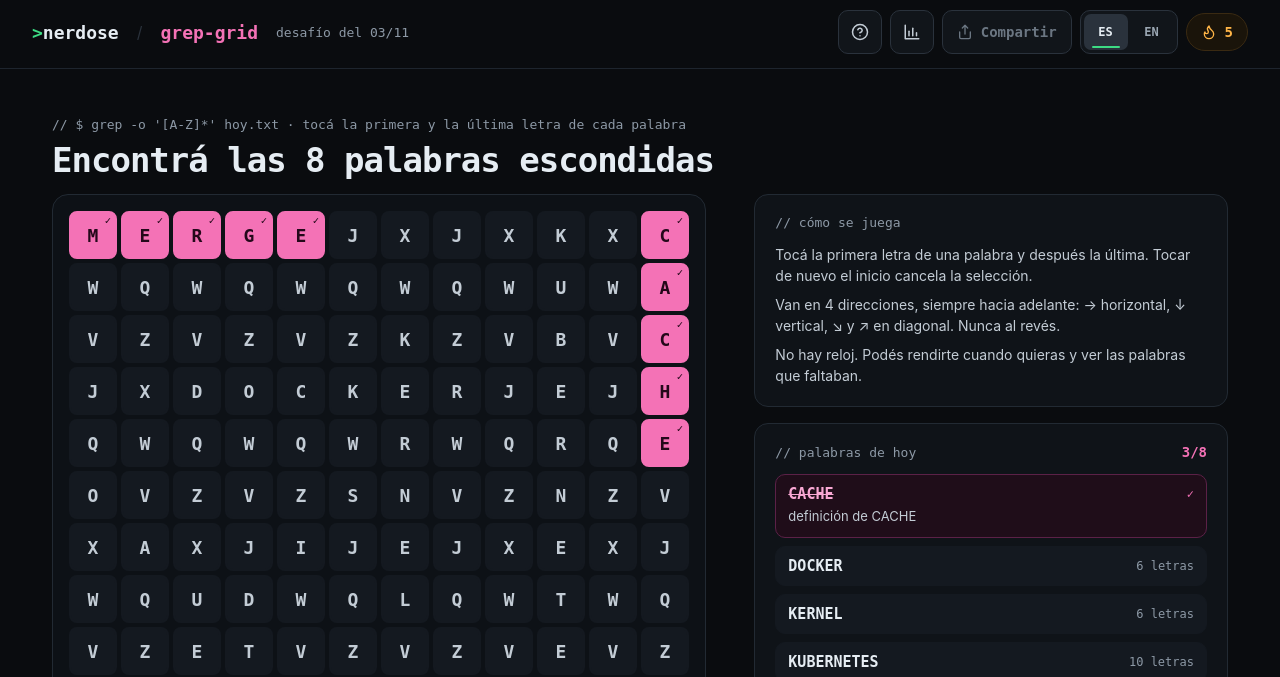
partida › TS-14: cancelar la celda inicial sin enviar
Click the 1st button "D" at point(197, 391), box [173,367,221,415]
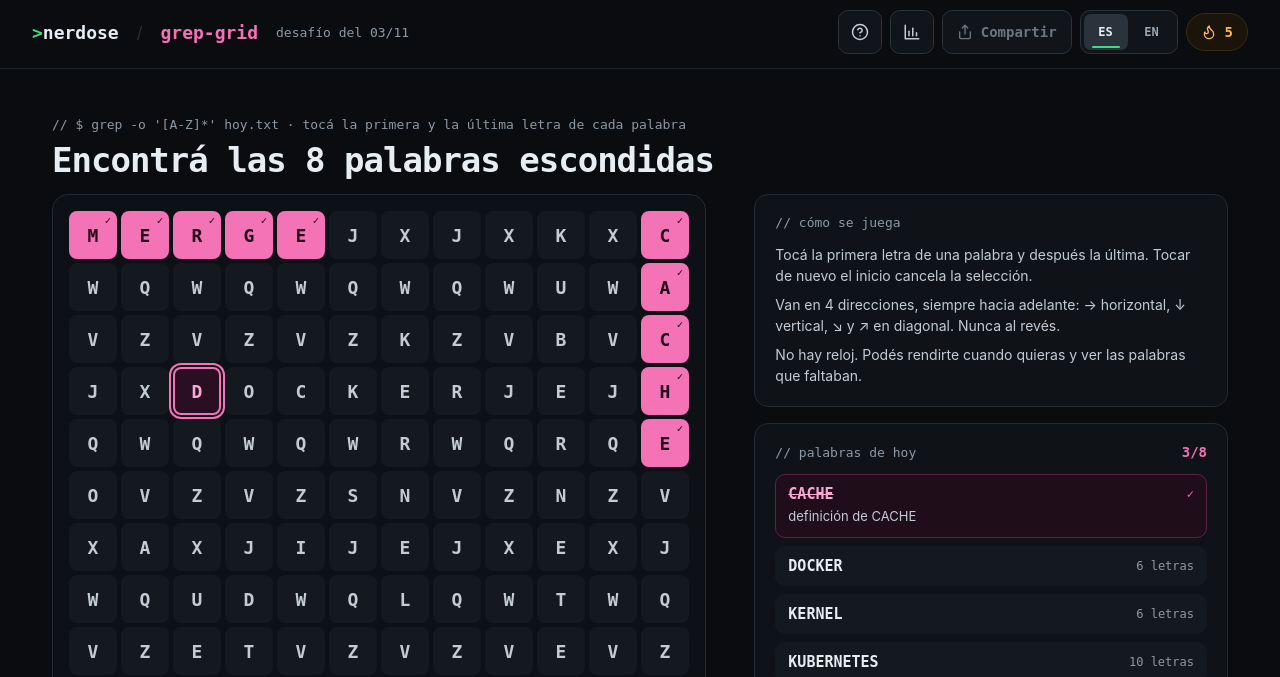
Click the 1st button "D" at point(197, 391), box [173,367,221,415]
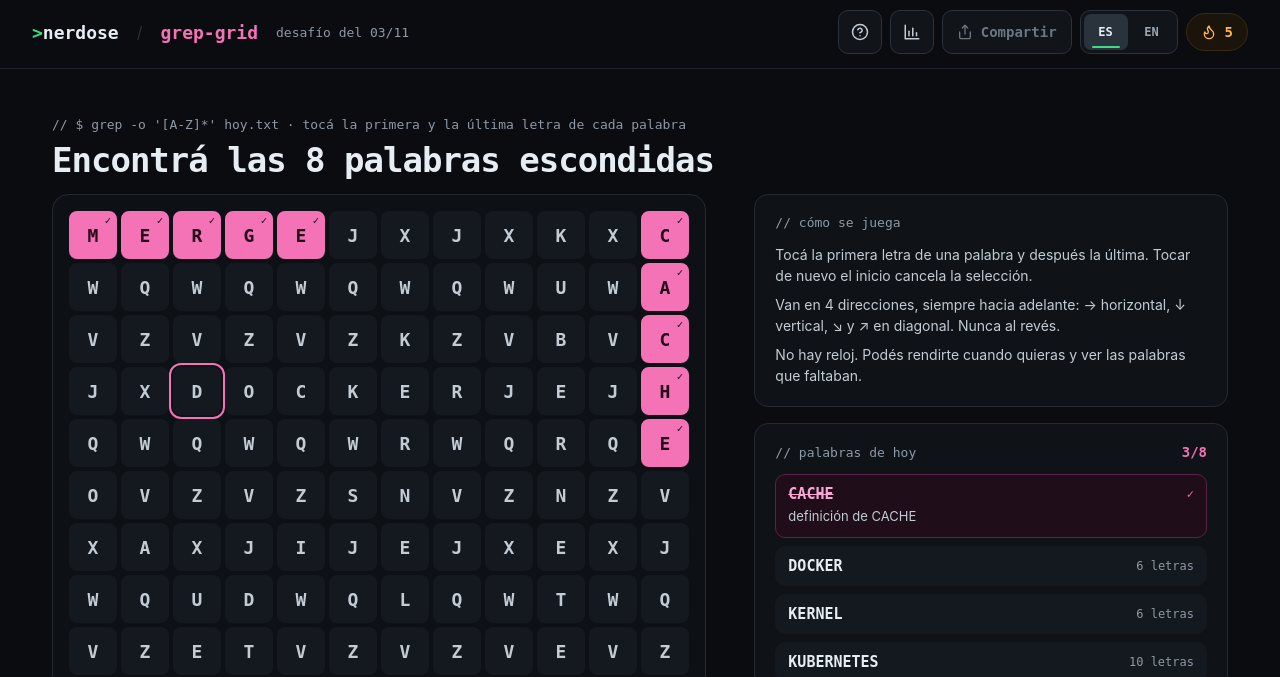
Click the 1st button "D" at point(197, 391), box [173,367,221,415]
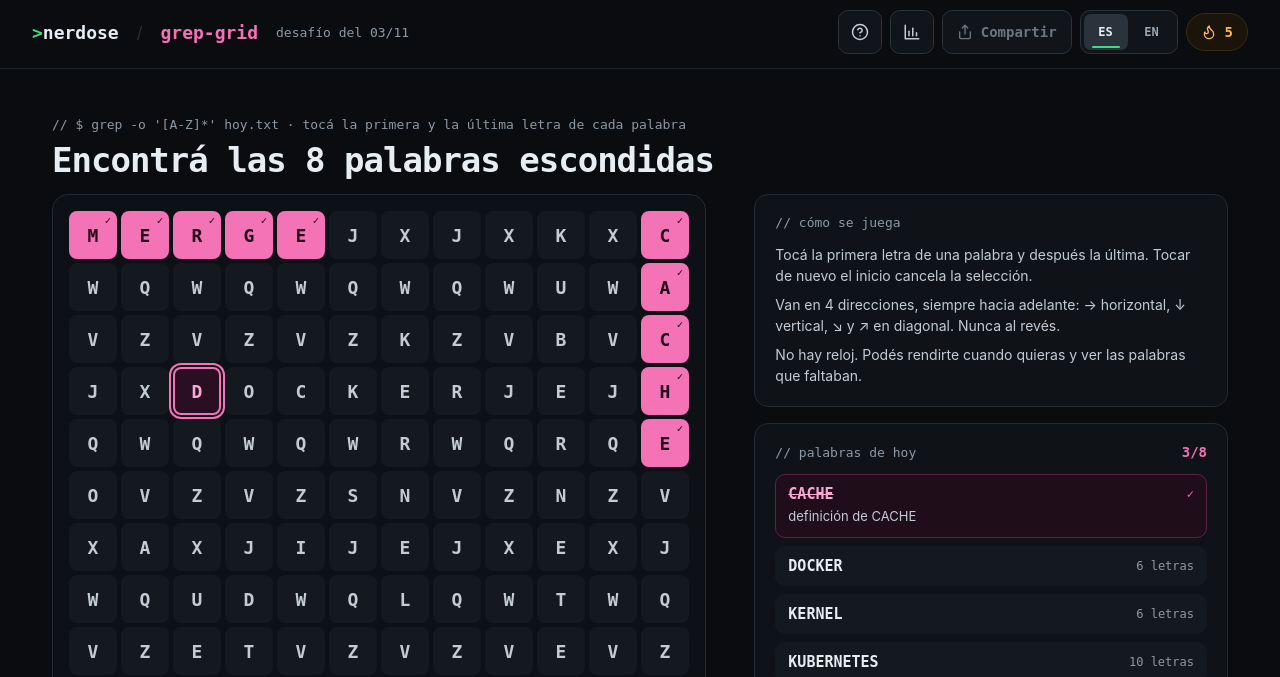
Press Escape
(page scrolled)
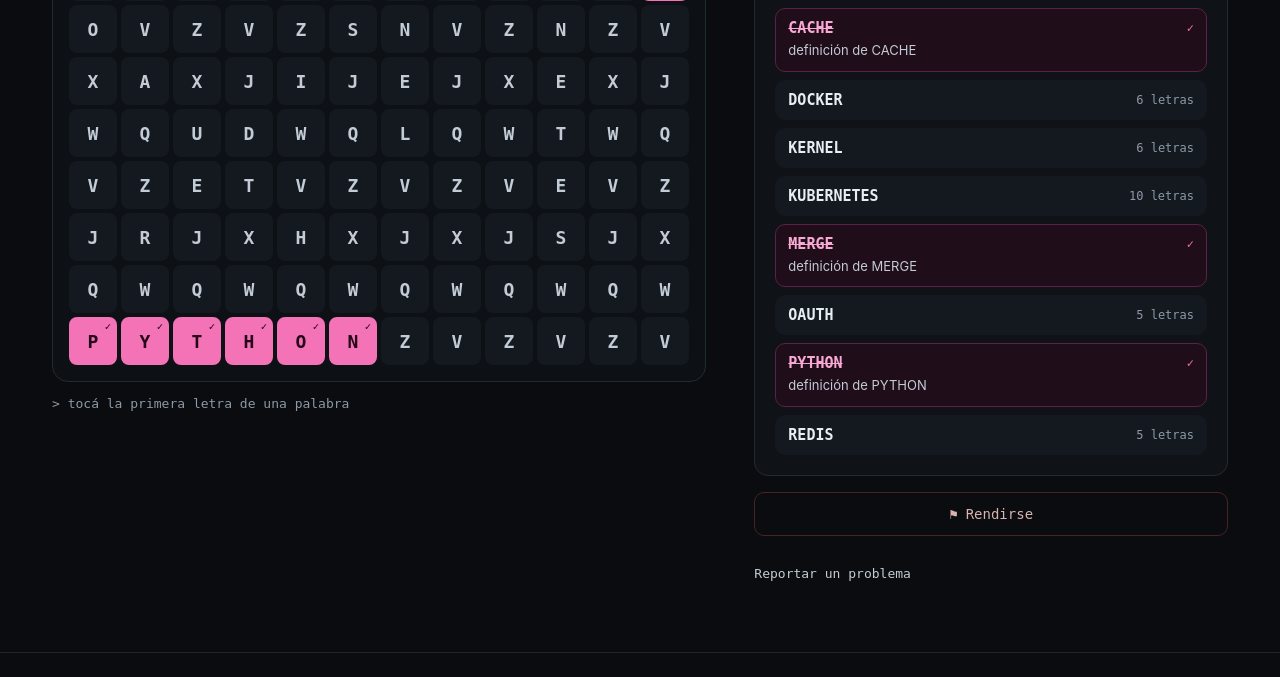
expect the text "> tocá la primera letra de una palabra" is shown: met, box [52,396,349,411]
